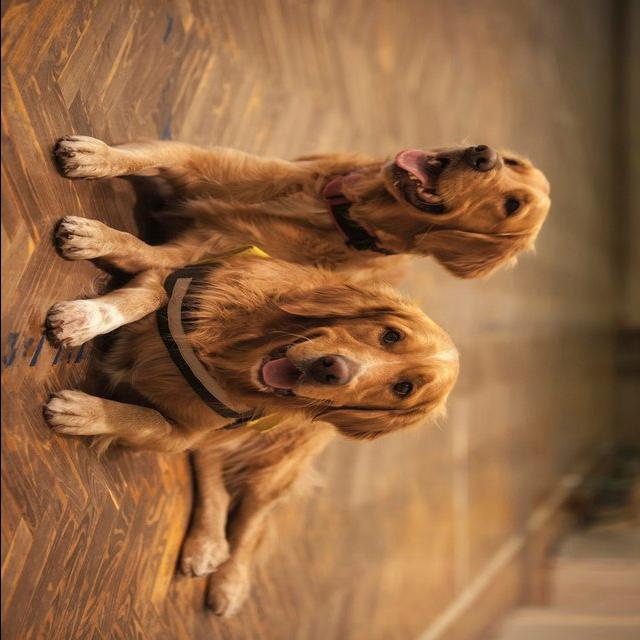retriever: (42, 232, 462, 617), (55, 126, 553, 379)
